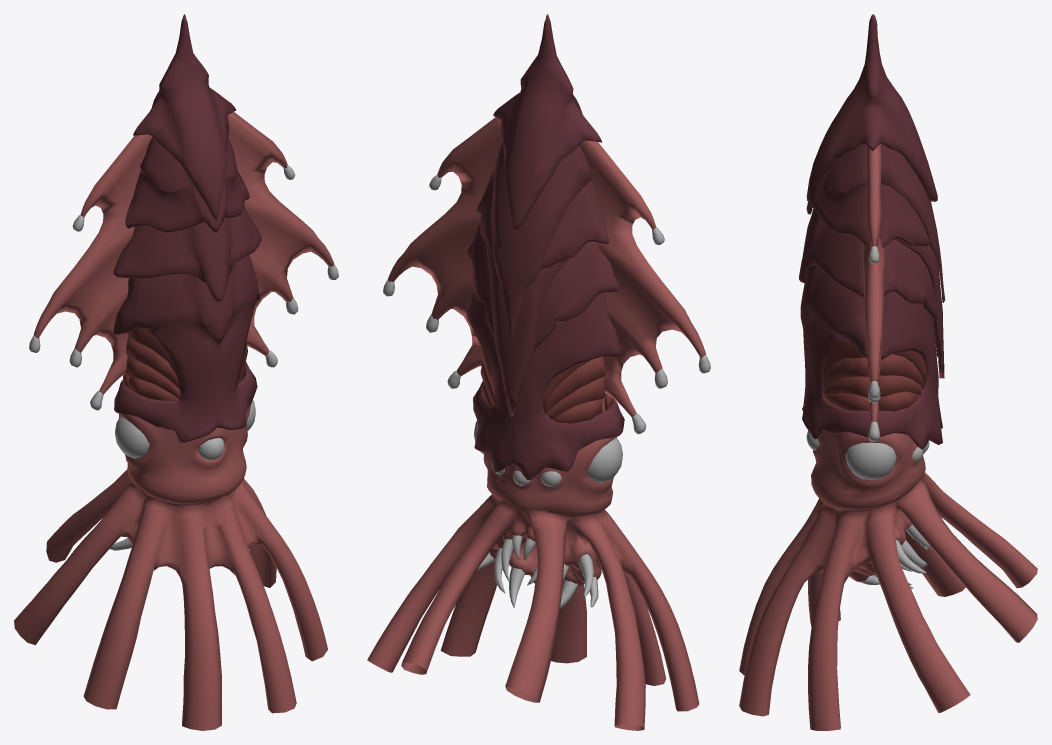
The model's file is KrakenTexture.fbx.
3 renders of one model, left to right at view 1: azimuth 30°, elevation 25°; view 2: azimuth 150°, elevation 25°; view 3: azimuth 270°, elevation 25°, orthographic. The views are drawn at different scales.
Visible parts, largest first — view 1: Kraken_Body, Kraken_HeadShell, Kraken_HeadBase, Kraken_Barb.L, Kraken_Barb.R, Kraken_Eyes; view 2: Kraken_Body, Kraken_HeadShell, Kraken_HeadBase, Kraken_Barb.L, Kraken_Barb.R, Kraken_Eyes; view 3: Kraken_Body, Kraken_HeadShell, Kraken_HeadBase, Kraken_Barb.R, Kraken_Eyes.
Boxes of the visible parts, x1=… form: Kraken_Body: x1=14, y1=404, x2=327, y2=730; Kraken_HeadShell: x1=113, y1=14, x2=261, y2=301; Kraken_HeadBase: x1=112, y1=255, x2=260, y2=442; Kraken_Barb.L: x1=29, y1=134, x2=152, y2=410; Kraken_Barb.R: x1=228, y1=112, x2=338, y2=367; Kraken_Eyes: x1=115, y1=400, x2=255, y2=460; Kraken_Body: x1=367, y1=397, x2=699, y2=730; Kraken_HeadShell: x1=466, y1=14, x2=620, y2=416; Kraken_HeadBase: x1=467, y1=291, x2=624, y2=479; Kraken_Barb.L: x1=579, y1=140, x2=710, y2=434; Kraken_Barb.R: x1=383, y1=117, x2=502, y2=388; Kraken_Eyes: x1=474, y1=420, x2=622, y2=486; Kraken_Body: x1=739, y1=406, x2=1037, y2=730; Kraken_HeadShell: x1=799, y1=14, x2=945, y2=378; Kraken_HeadBase: x1=800, y1=264, x2=942, y2=449; Kraken_Barb.R: x1=863, y1=143, x2=885, y2=441; Kraken_Eyes: x1=806, y1=431, x2=929, y2=480.
Bounding box in the file's own units: 1744 × 3570 × 1428.
